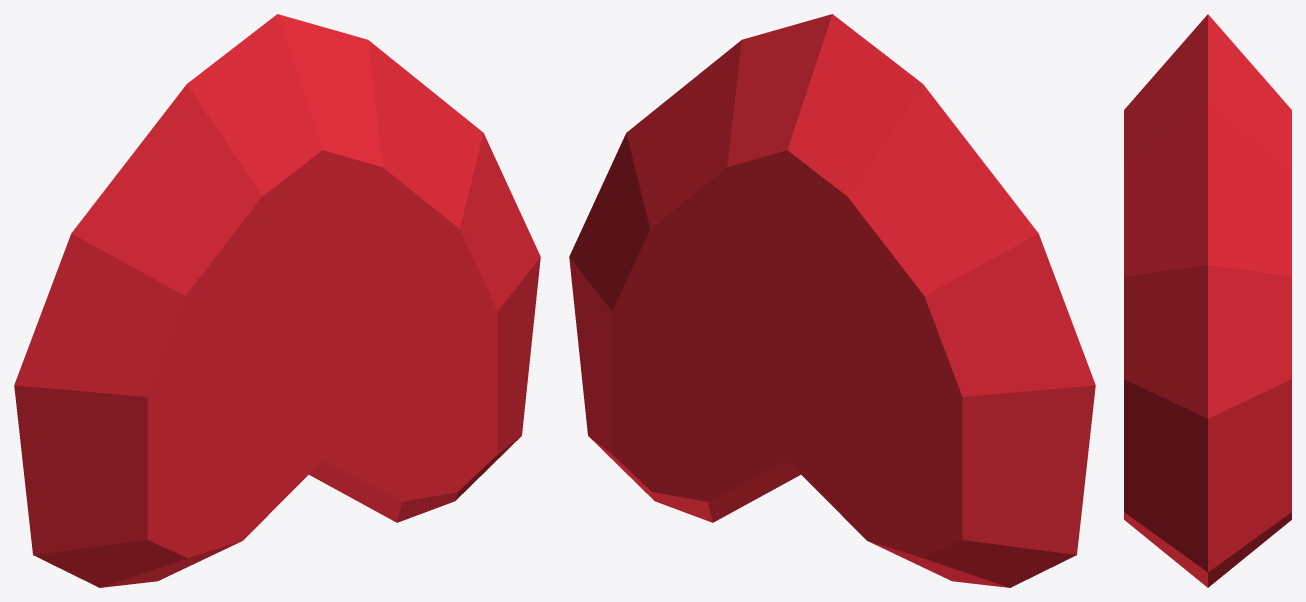
The model's file is Heart.fbx.
3 renders of one model, left to right at view 1: azimuth 30°, elevation 25°; view 2: azimuth 150°, elevation 25°; view 3: azimuth 270°, elevation 25°, orthographic. The views are drawn at different scales.
Visible parts, largest first — view 1: Heart; view 2: Heart; view 3: Heart.
Part boxes in pixels (box(x1,y1,x2,y2)): Heart: box(14, 14, 540, 587); Heart: box(569, 14, 1095, 587); Heart: box(1124, 14, 1291, 587).
Size of the model in its own units: 269 by 263 by 79.87.
